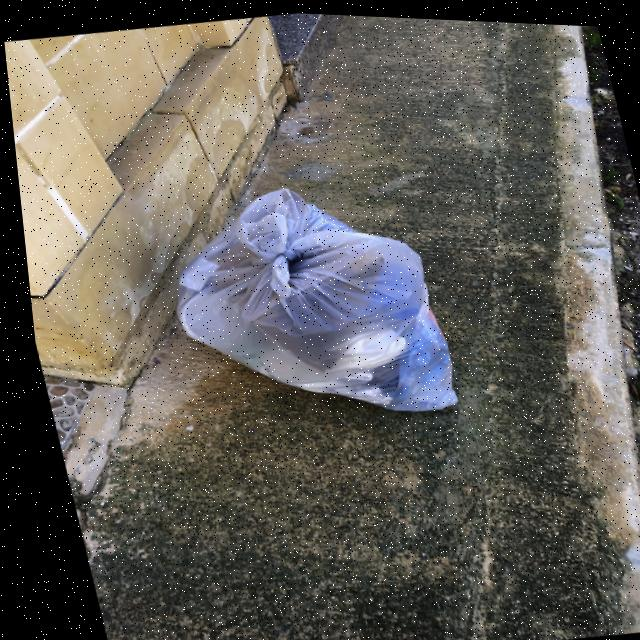Recycled Waste -Grey or Green Bag-: (145, 167, 456, 441)
